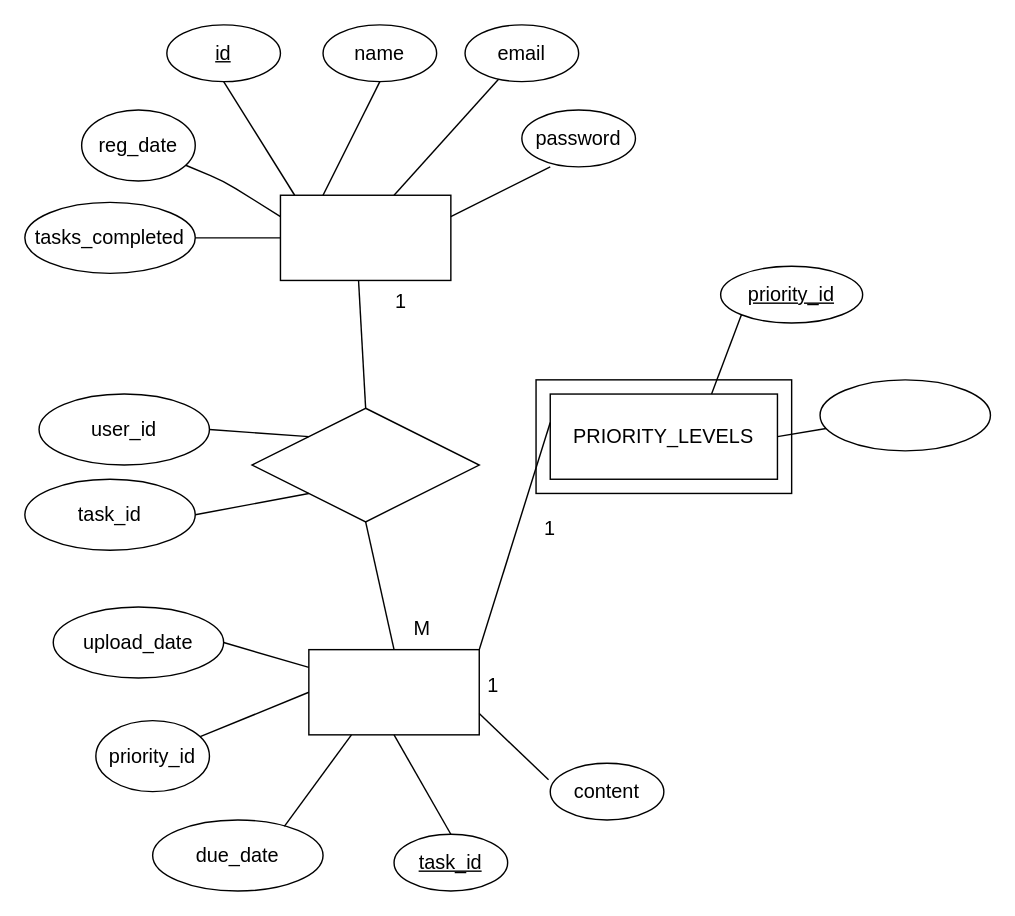
Image size: 1015x916. Some labels were removed from this diagram. The centre of each missing label's shape, as x and y in pixels:
priority_name: point (904, 414)
TASKS: point (393, 691)
USER_TASKS: point (365, 464)
USERS: point (365, 237)
